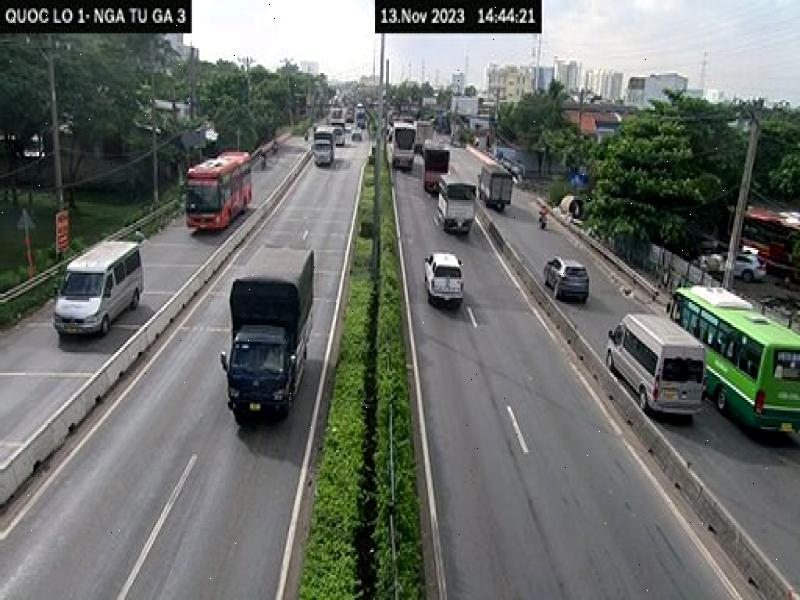bus: (659, 279, 800, 442), (176, 147, 259, 234)
truck: (219, 245, 314, 422)
